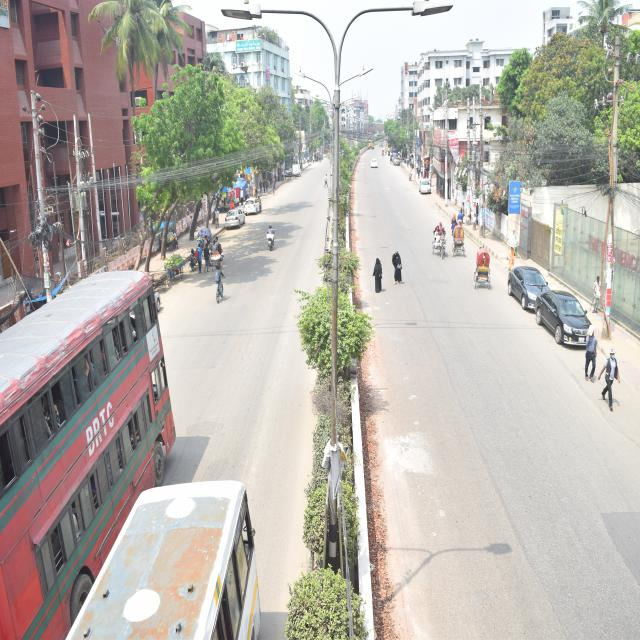bus: (0, 267, 177, 640), (50, 480, 265, 640)
car: (536, 287, 596, 350), (505, 260, 552, 317), (223, 207, 247, 232), (244, 194, 265, 218), (418, 178, 432, 196)
motorbike: (265, 223, 279, 253)
